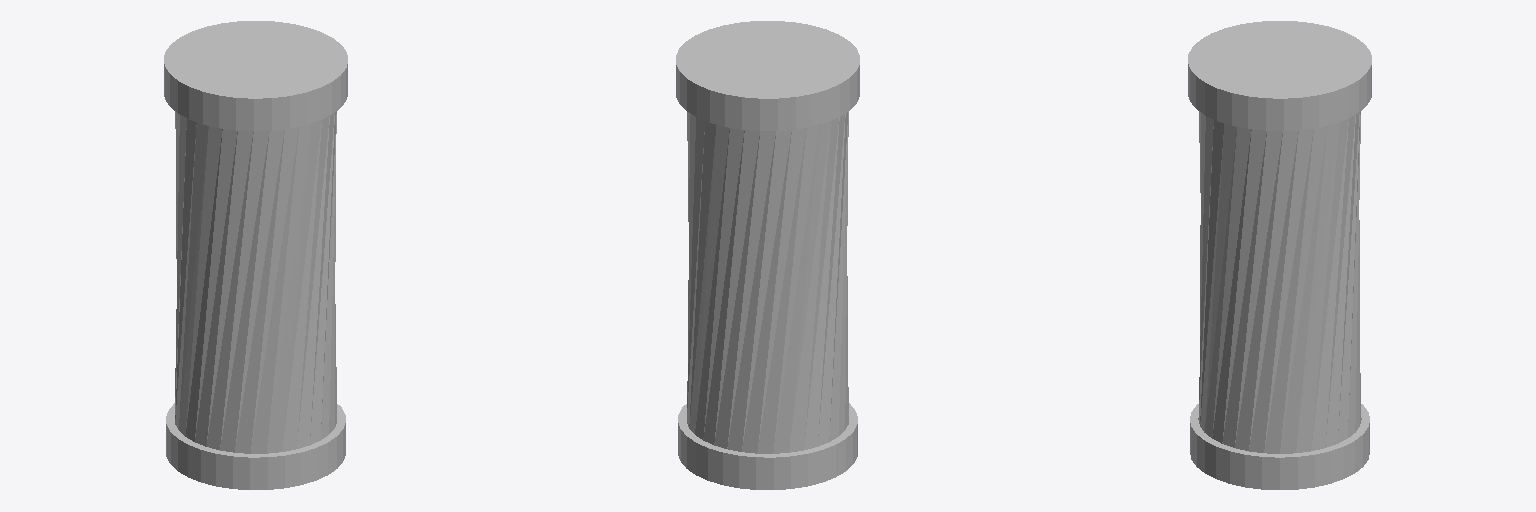
File: PseudoColumn.obj
3 renders of one model, left to right at view 1: azimuth 30°, elevation 25°; view 2: azimuth 150°, elevation 25°; view 3: azimuth 270°, elevation 25°, orthographic.
Parts seen in each view (by area): view 1: Circle; view 2: Circle; view 3: Circle.
Boxes of the visible parts, x1=… form: Circle: x1=164, y1=21, x2=347, y2=489; Circle: x1=676, y1=21, x2=859, y2=489; Circle: x1=1188, y1=21, x2=1371, y2=489.
Size of the model in its own units: 2.05 by 4.8 by 2.05.